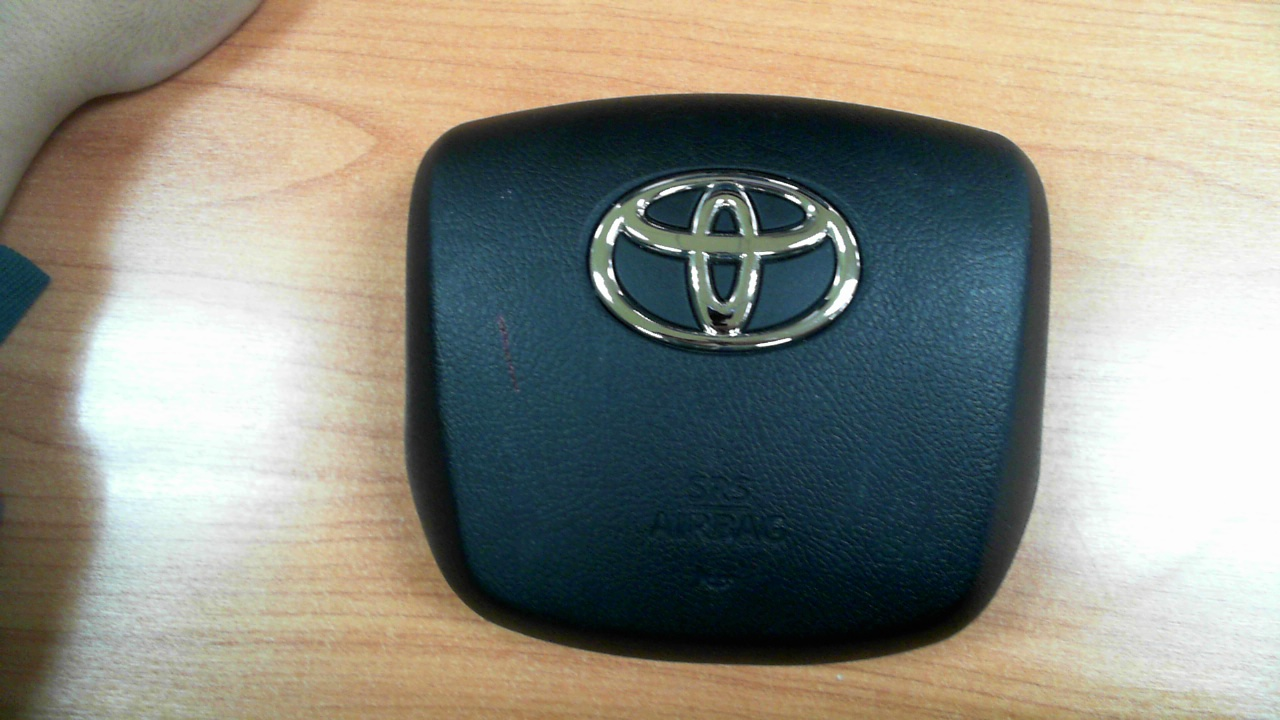Airbag: (403, 92, 1052, 666)
Toyota: (589, 167, 861, 351)
